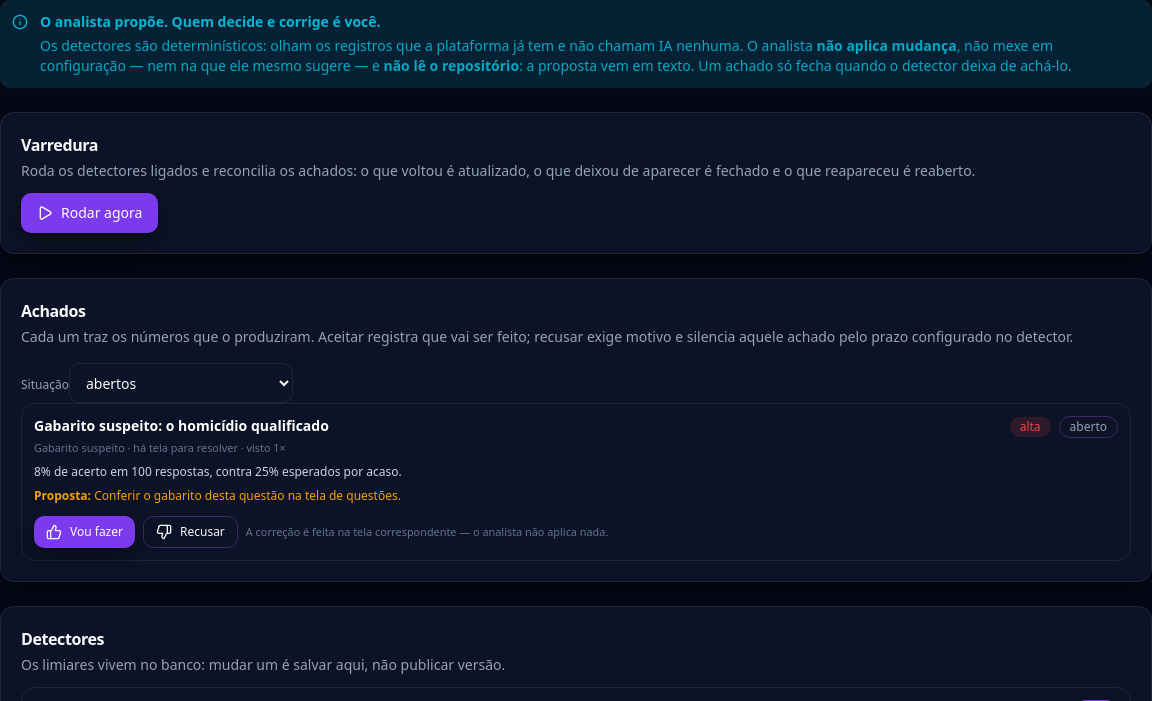
Test: ImprovementsSection › "sem amostra" aparece como aviso próprio, nunca como limpo
Click the button "Rodar agora".
click(90, 213)  # box [21,193,158,233]
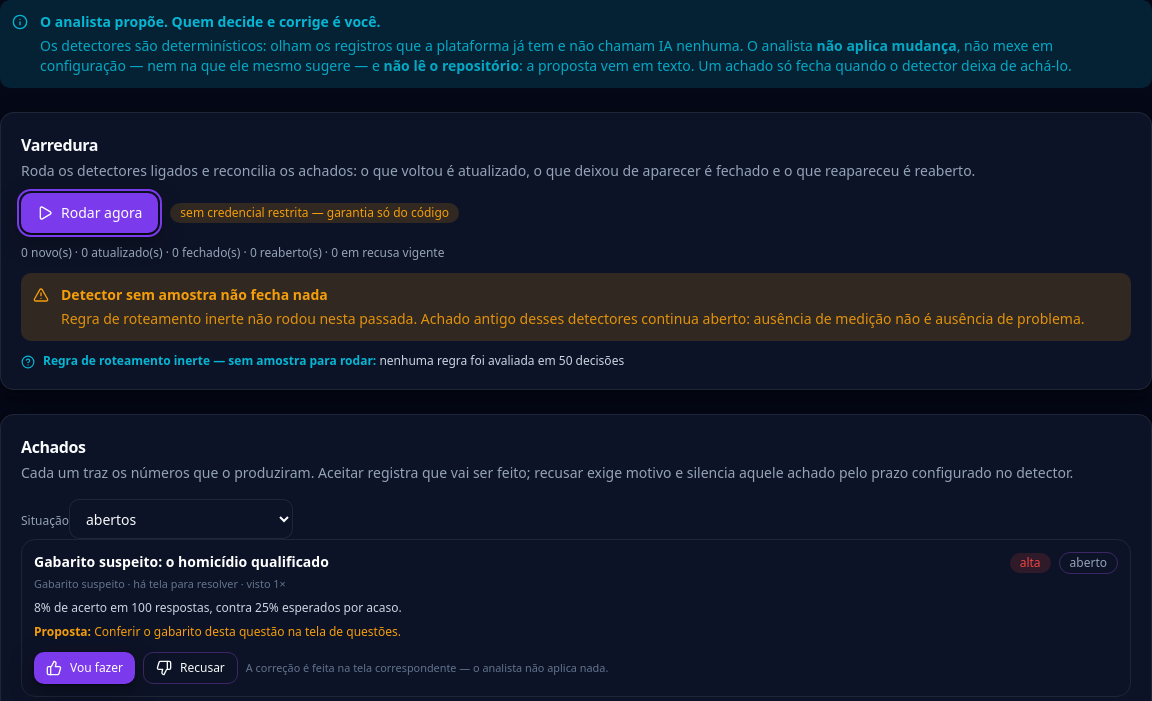
Expected: the text "Detector sem amostra não fecha nada" is shown, [61,285,328,304]
Expected: the text "ausência de medição não é ausência de problema" is shown, [316,309,1084,328]
Expected: the text "Regra de roteamento inerte — sem amostra para rodar:" is shown, [43,352,376,369]
